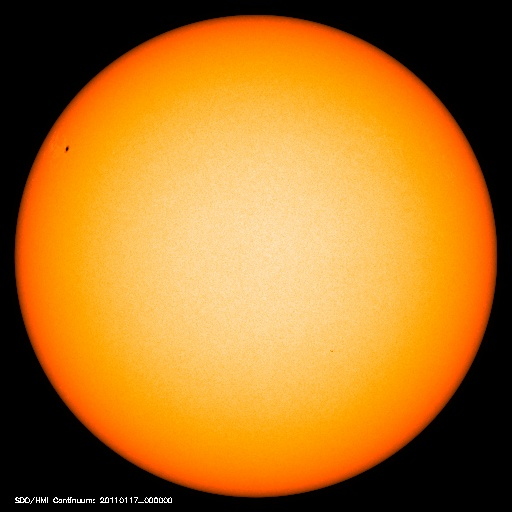sunspot: (52, 136, 82, 162)
